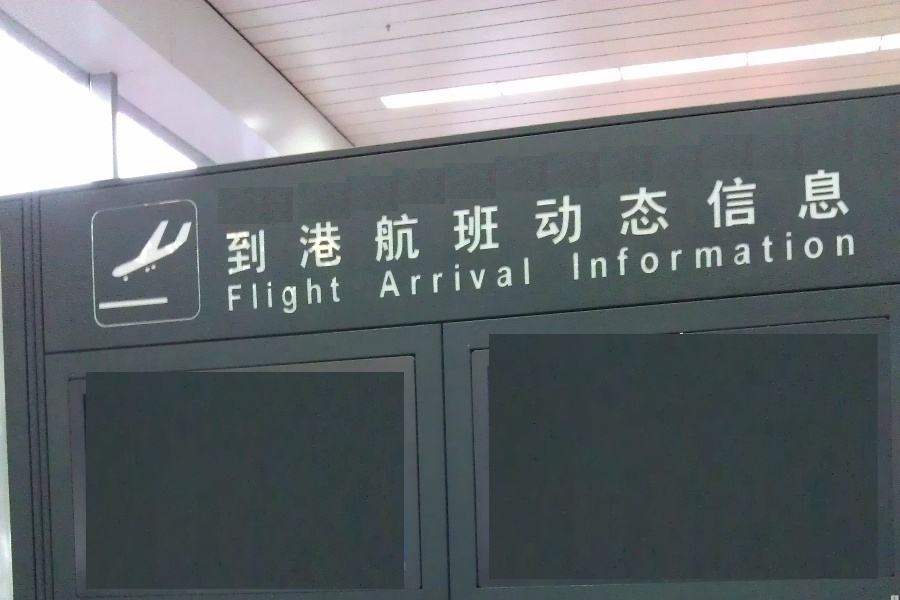text: (225, 166, 240, 279), (241, 166, 256, 279), (257, 166, 272, 279), (273, 166, 288, 279), (289, 166, 304, 279), (305, 166, 320, 279), (321, 166, 336, 279), (337, 166, 352, 279), (353, 166, 368, 279), (369, 166, 384, 279), (385, 166, 400, 279), (401, 166, 416, 279), (417, 166, 432, 279), (433, 166, 448, 279), (449, 166, 464, 279), (465, 166, 480, 279), (481, 166, 496, 279), (497, 166, 512, 279), (513, 166, 528, 279), (529, 166, 544, 279), (545, 166, 560, 279), (561, 166, 576, 279), (577, 166, 592, 279), (593, 166, 608, 279), (609, 166, 624, 279), (625, 166, 640, 279), (641, 166, 656, 279), (657, 166, 672, 279), (673, 166, 688, 279), (689, 166, 704, 279), (705, 166, 720, 279), (721, 166, 736, 279), (737, 166, 752, 279), (753, 166, 768, 279), (769, 166, 784, 279), (785, 166, 800, 279), (801, 166, 816, 279), (817, 166, 832, 279), (833, 166, 848, 279), (577, 223, 592, 291), (593, 223, 608, 291), (609, 223, 624, 291), (625, 223, 640, 291), (641, 223, 656, 291), (657, 223, 672, 291), (673, 223, 688, 291), (689, 223, 704, 291), (705, 223, 720, 291), (721, 223, 736, 291), (737, 223, 752, 291), (753, 223, 768, 291), (769, 223, 784, 291), (785, 223, 800, 291), (801, 223, 816, 291), (817, 223, 832, 291), (833, 223, 848, 291), (241, 275, 256, 319), (257, 275, 272, 319), (273, 275, 288, 319), (289, 275, 304, 319), (305, 275, 320, 319), (321, 275, 336, 319), (385, 257, 400, 300), (401, 257, 416, 300), (417, 257, 432, 300), (433, 257, 448, 300), (449, 257, 464, 300), (465, 257, 480, 300), (481, 257, 496, 300), (497, 257, 512, 300), (513, 257, 528, 300), (226, 275, 240, 319), (849, 223, 857, 291), (570, 223, 576, 291), (376, 257, 384, 300), (849, 166, 852, 279), (337, 275, 344, 319), (529, 257, 533, 300)
